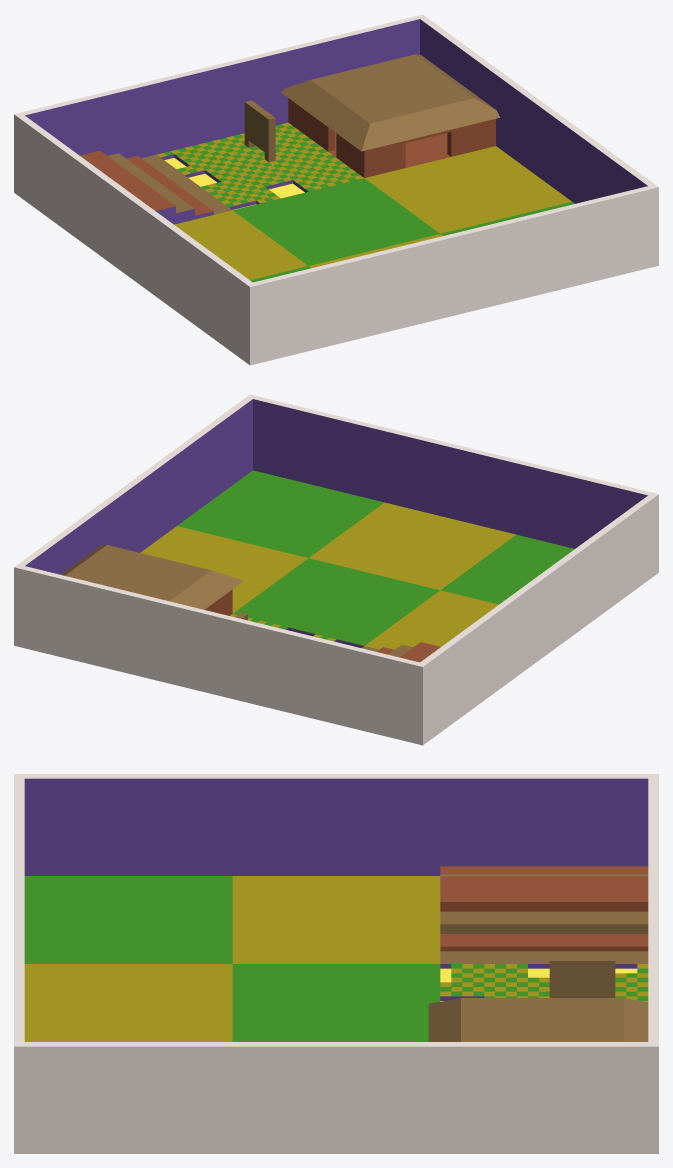
File: test_location.gltf
The picture shows the model from 3 angles, top to bottom: view 1: azimuth 30°, elevation 25°; view 2: azimuth 150°, elevation 25°; view 3: azimuth 270°, elevation 25°; orthographic projection. The views are drawn at different scales.
Visible parts, largest first — view 1: Plane; view 2: Plane; view 3: Plane.
Part boxes in pixels (x1,y1,x2,y2): Plane: (14,14,658,365); Plane: (14,394,658,745); Plane: (14,774,658,1153).
Bounding box in the file's own units: 60 × 11 × 60.
